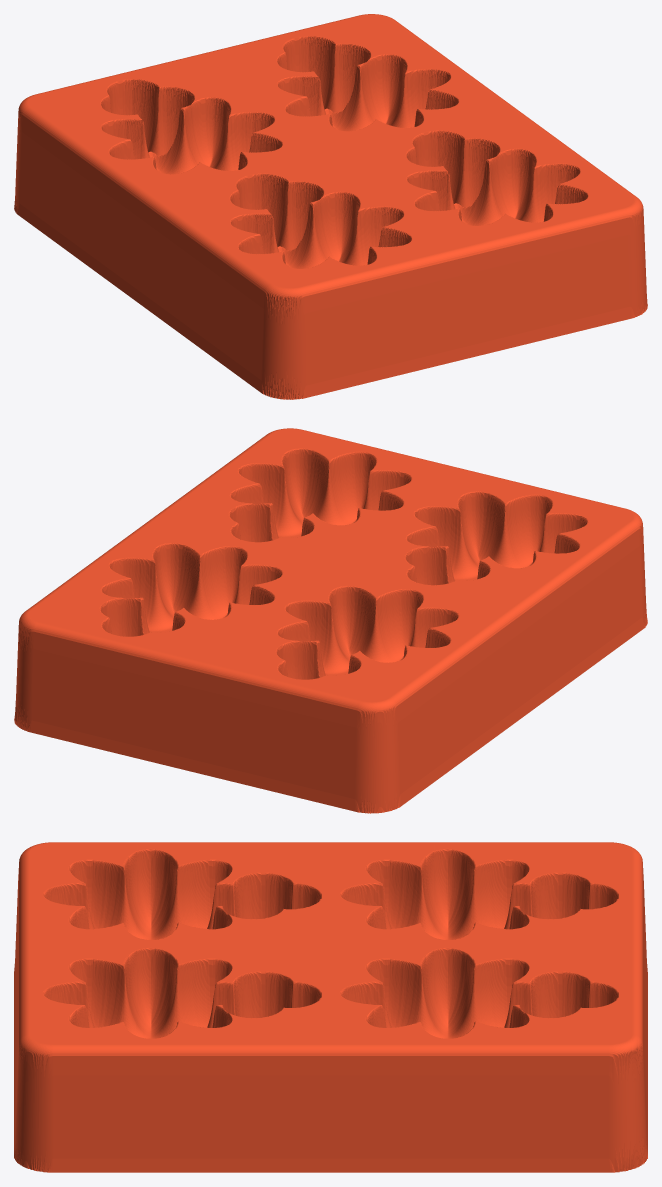
Rendered from mold.glb.
3 renders of one model, top to bottom at view 1: azimuth 30°, elevation 25°; view 2: azimuth 150°, elevation 25°; view 3: azimuth 270°, elevation 25°, orthographic. The views are drawn at different scales.
Parts seen in each view (by area): view 1: geometry_0; view 2: geometry_0; view 3: geometry_0.
Part boxes in pixels (box(x1,y1,x2,y2)): geometry_0: box(14, 14, 647, 399); geometry_0: box(14, 428, 647, 813); geometry_0: box(14, 842, 647, 1172).
Bounding box in the file's own units: 0.1174 × 0.031 × 0.1466.
